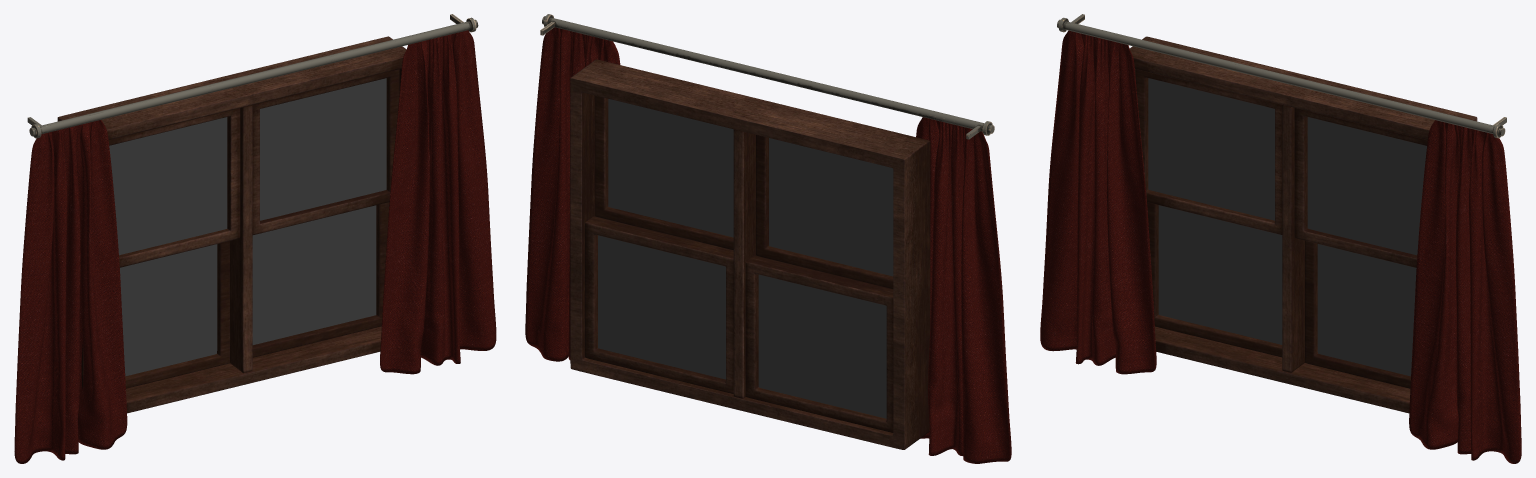
The model's file is window_and_curtains.glb.
3 renders of one model, left to right at view 1: azimuth 30°, elevation 25°; view 2: azimuth 150°, elevation 25°; view 3: azimuth 330°, elevation 25°, orthographic.
Visible parts, largest first — view 1: Window (×9), Curtain (×3), WindowMiddle; view 2: Window (×9), Curtain (×3), WindowMiddle; view 3: Window (×9), Curtain (×3), WindowMiddle.
Part boxes in pixels (bbox=[...]): Window (×9): bbox=[57, 36, 406, 413]; Curtain (×3): bbox=[14, 17, 496, 463]; WindowMiddle: bbox=[230, 105, 252, 373]; Window (×9): bbox=[570, 59, 930, 449]; Curtain (×3): bbox=[525, 14, 1011, 463]; WindowMiddle: bbox=[733, 129, 755, 398]; Window (×9): bbox=[1129, 36, 1477, 413]; Curtain (×3): bbox=[1040, 17, 1521, 463]; WindowMiddle: bbox=[1282, 105, 1304, 372].
Size of the model in its own units: 682 by 455 by 93.47.
4 materials, 4 textured.
